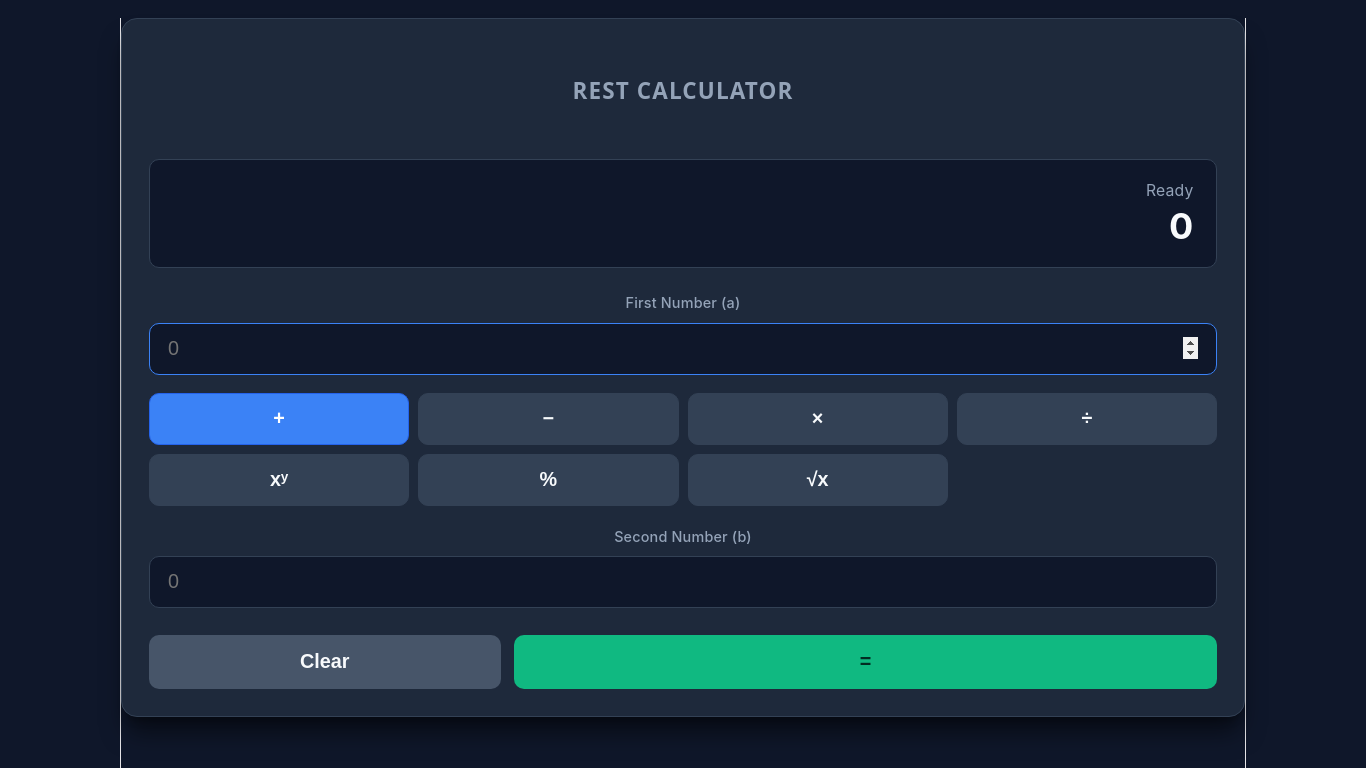
Test: Calculator Component › displays client-side validation error for empty input
Click the button named "Calculate result" at (866, 662), box [514, 635, 1217, 689]
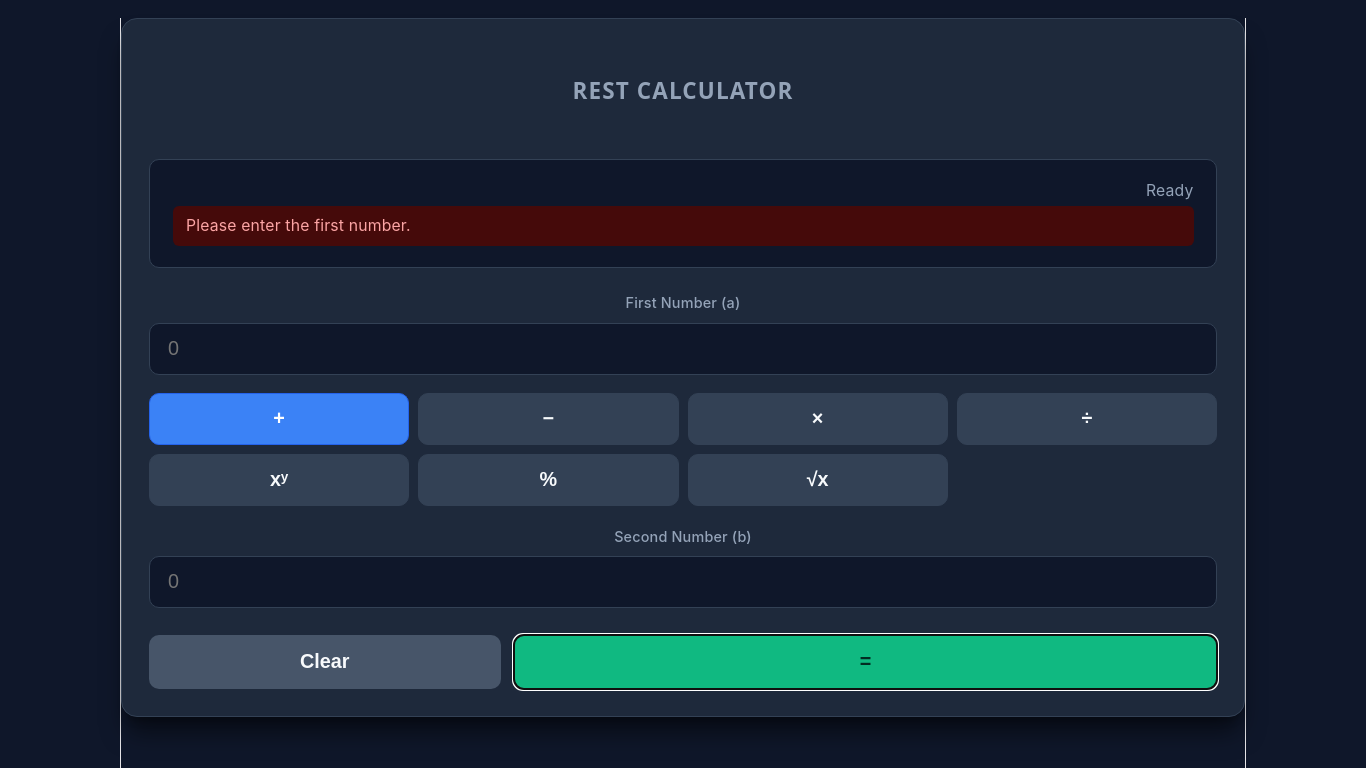
expect the message reads "Please enter the first number.": met, box [186, 216, 411, 235]
